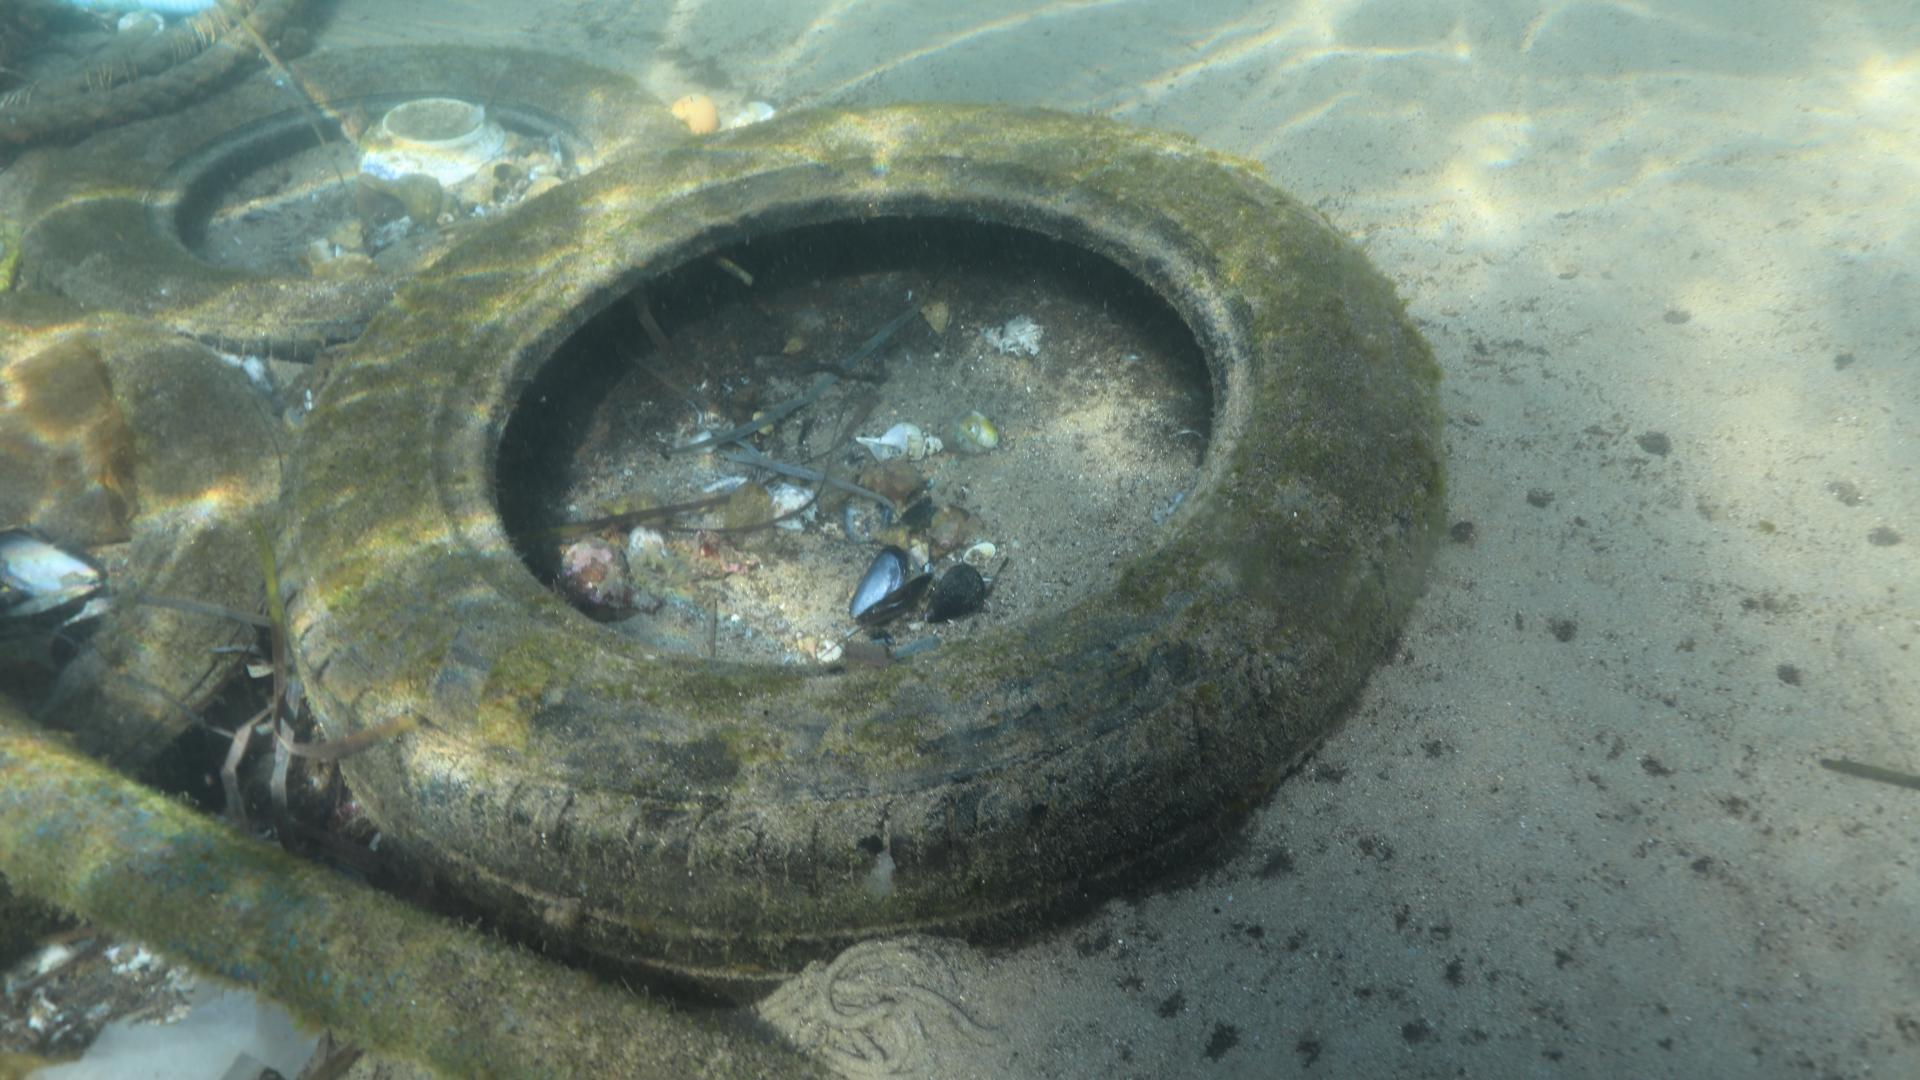bundle of ropes: (0, 0, 305, 149)
tire: (272, 100, 1437, 1005), (16, 44, 686, 361)
